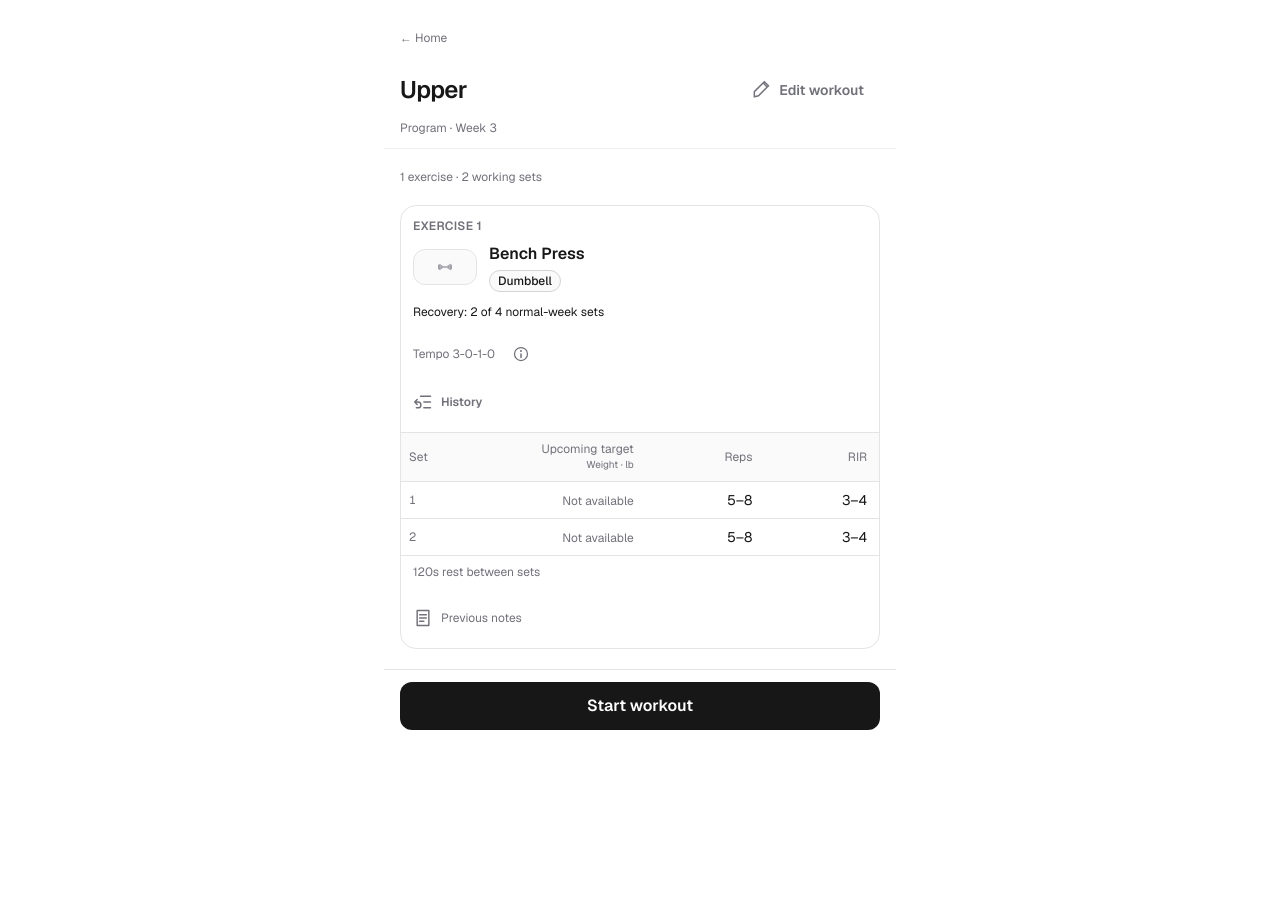
opens preserved normal-week effort and volume when editing a recovery occurrence
Click the button with aria-label "Edit workout" at x=808, y=90, box x1=735 y1=68 x2=880 y2=112
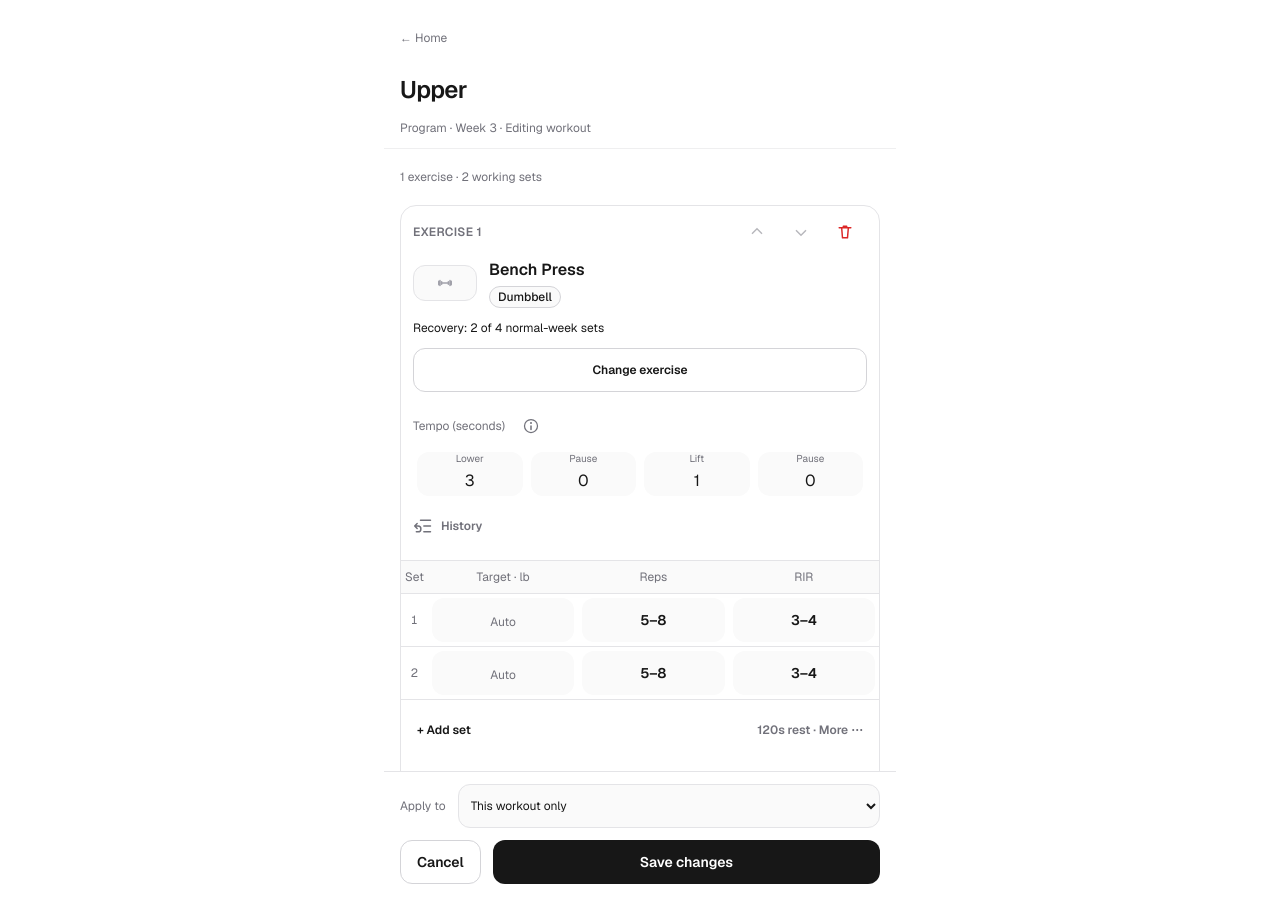
Click the 1st button "3–4" at x=804, y=620, box x1=733 y1=598 x2=875 y2=642
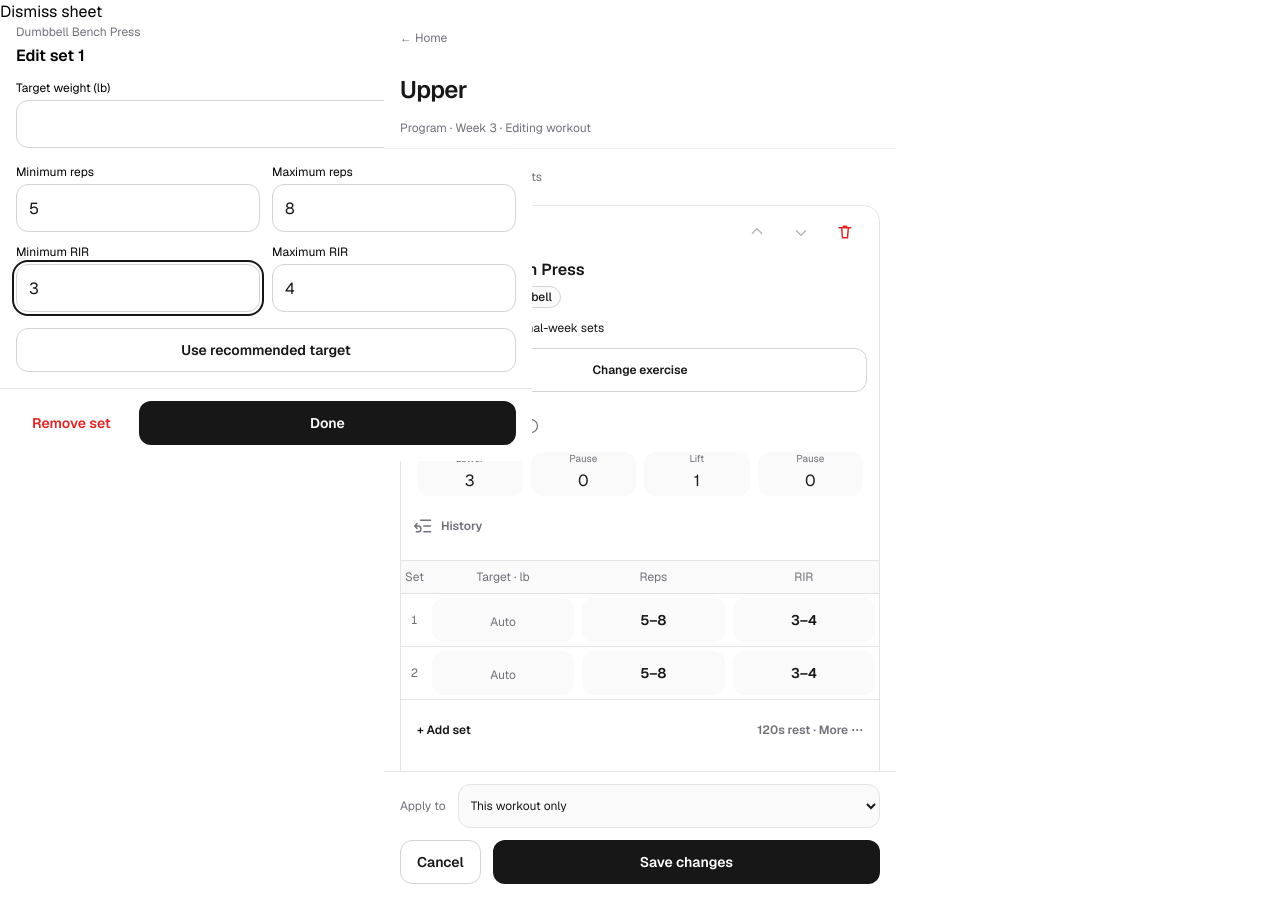
Check: the number field labelled "Maximum RIR" holds "4", box x1=272 y1=264 x2=516 y2=312
Click the button "Done" at x=327, y=423, box x1=139 y1=401 x2=516 y2=445
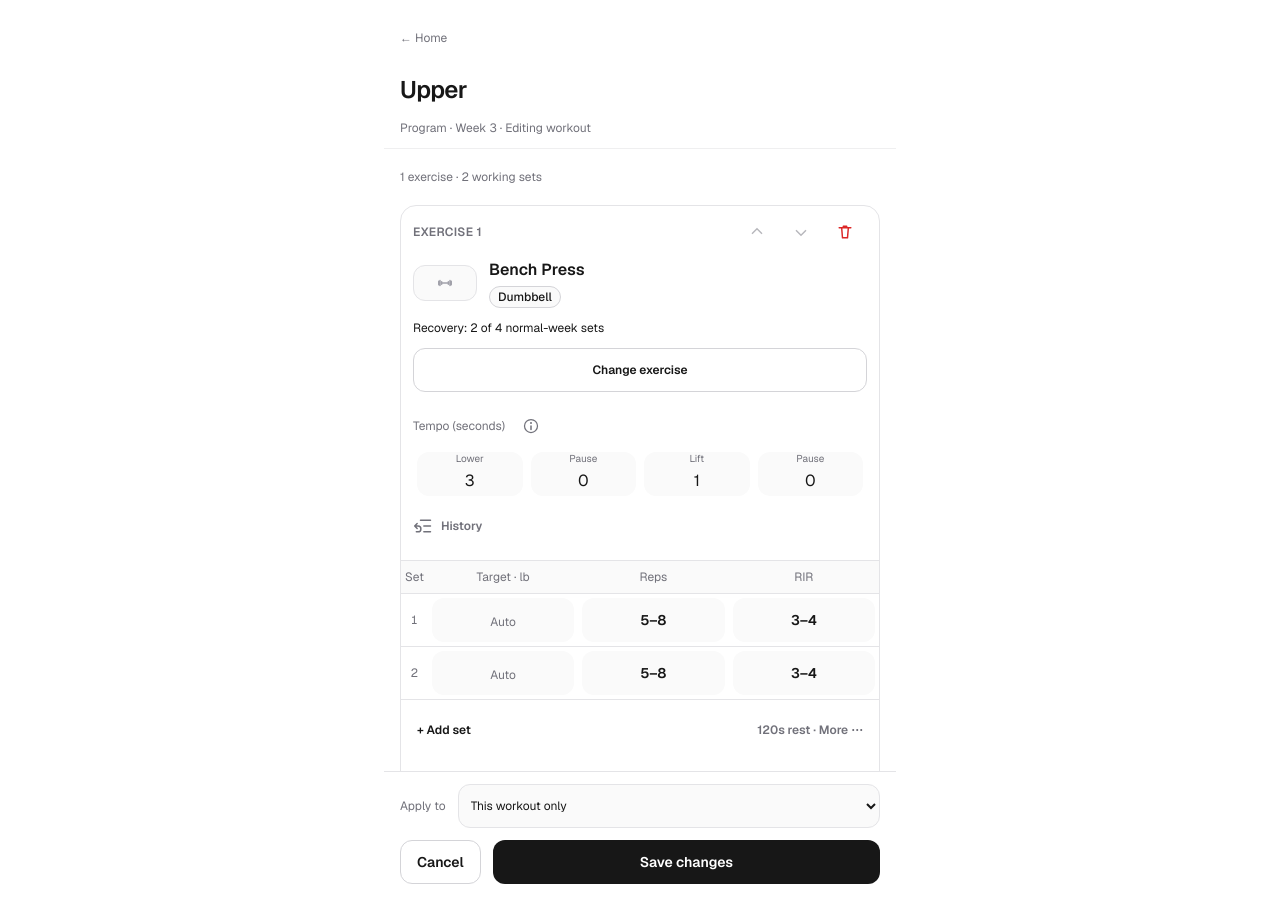
Select "This day for the remainder of the program" in the dropdown labelled "Apply to" at x=669, y=806, box x1=458 y1=784 x2=880 y2=828
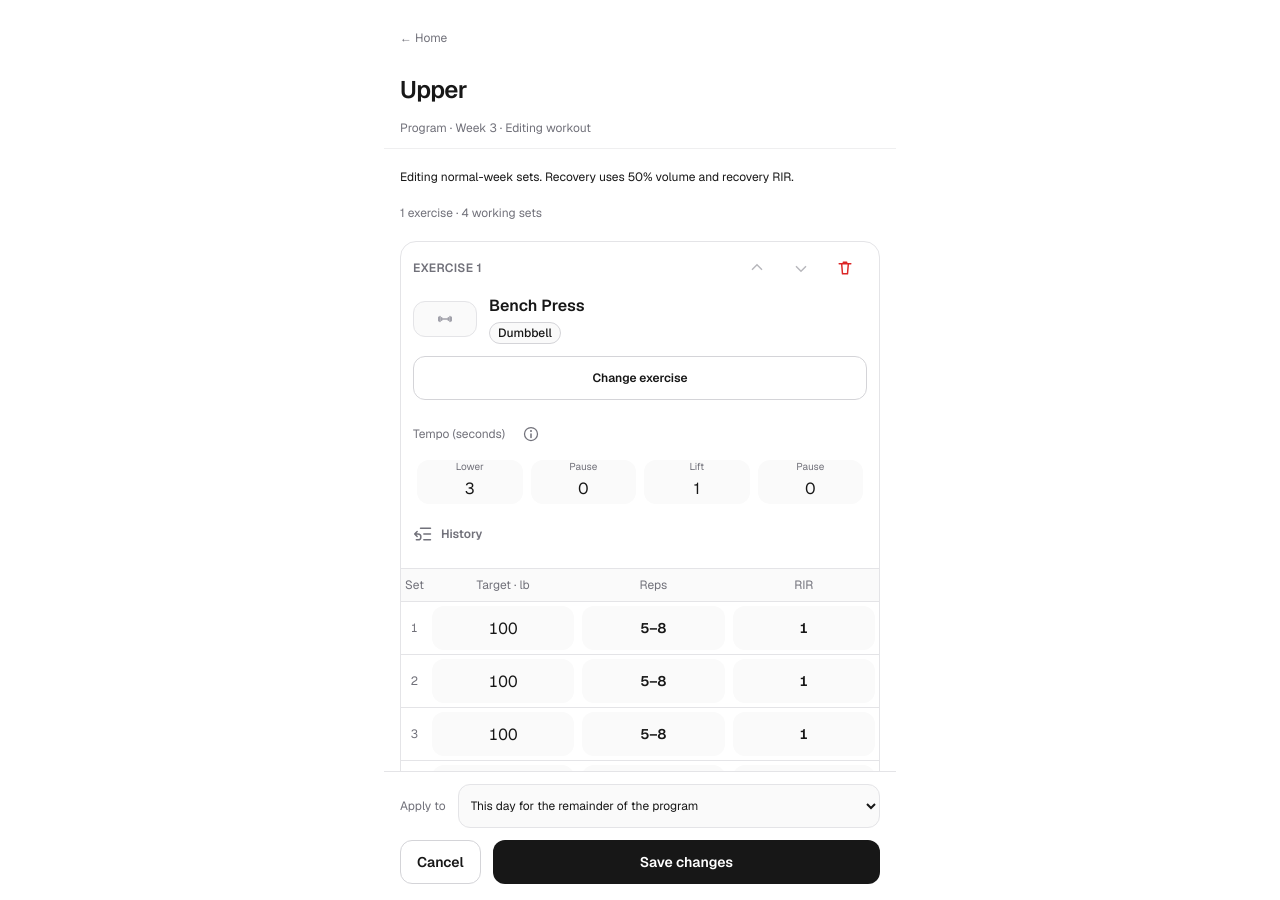
Click the 1st button "1" at x=804, y=628, box x1=733 y1=606 x2=875 y2=650
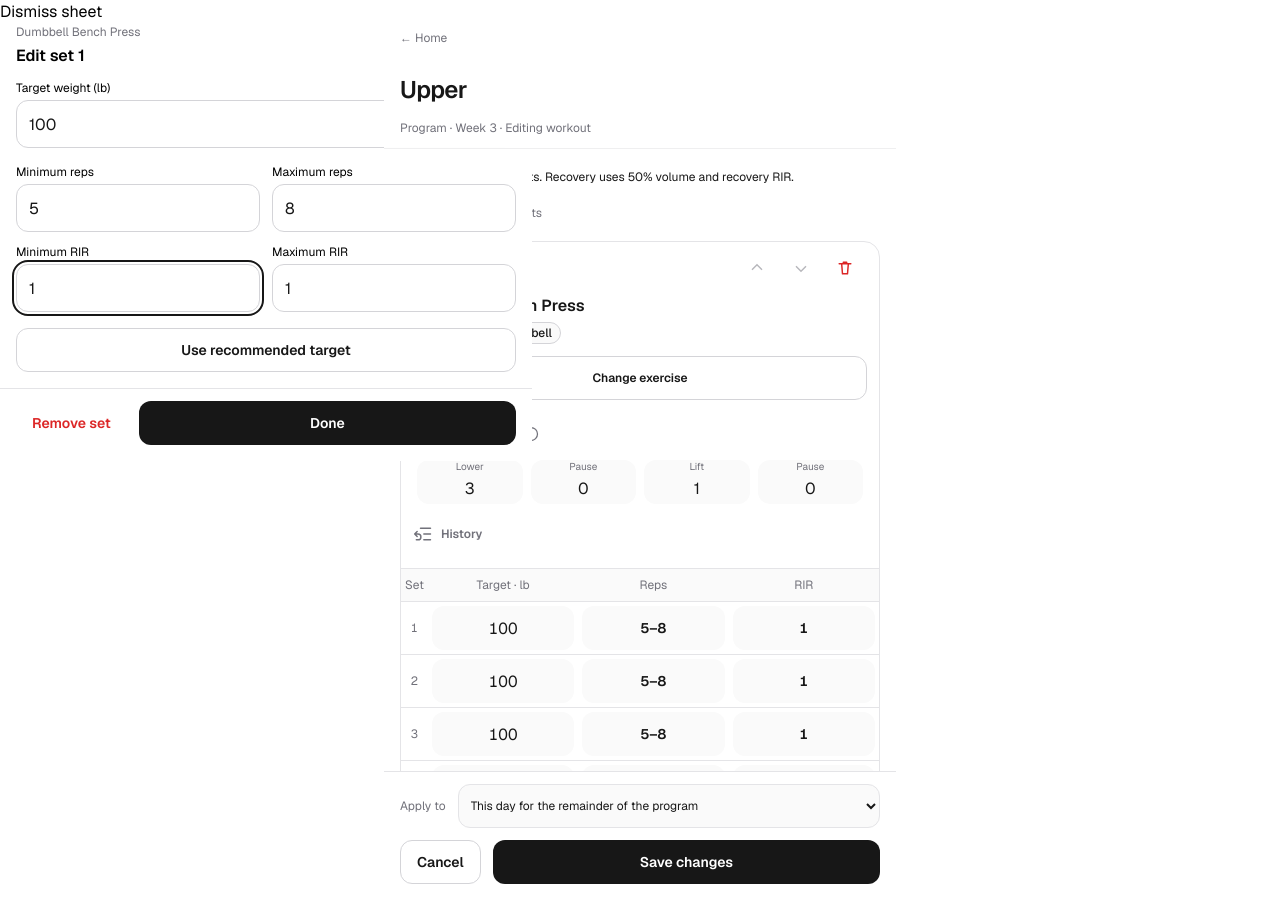
Check: the number field labelled "Maximum RIR" holds "1", box x1=272 y1=264 x2=516 y2=312
